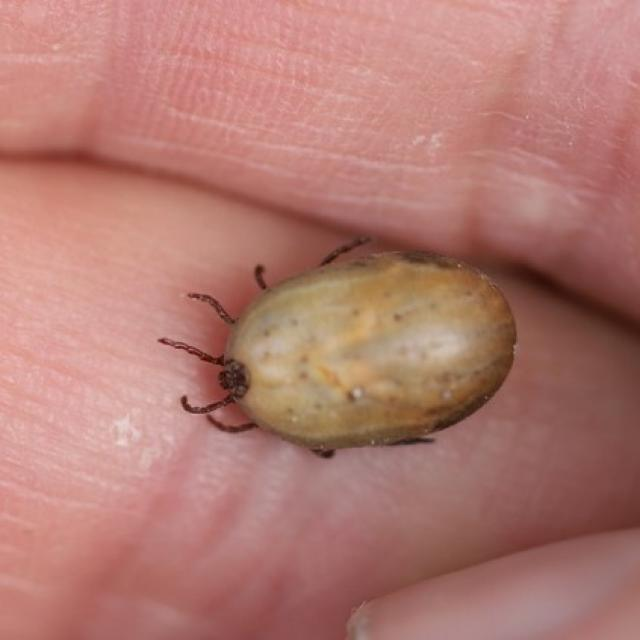Dermacentor Reticulatus-F-Fed: (157, 236, 516, 458)
